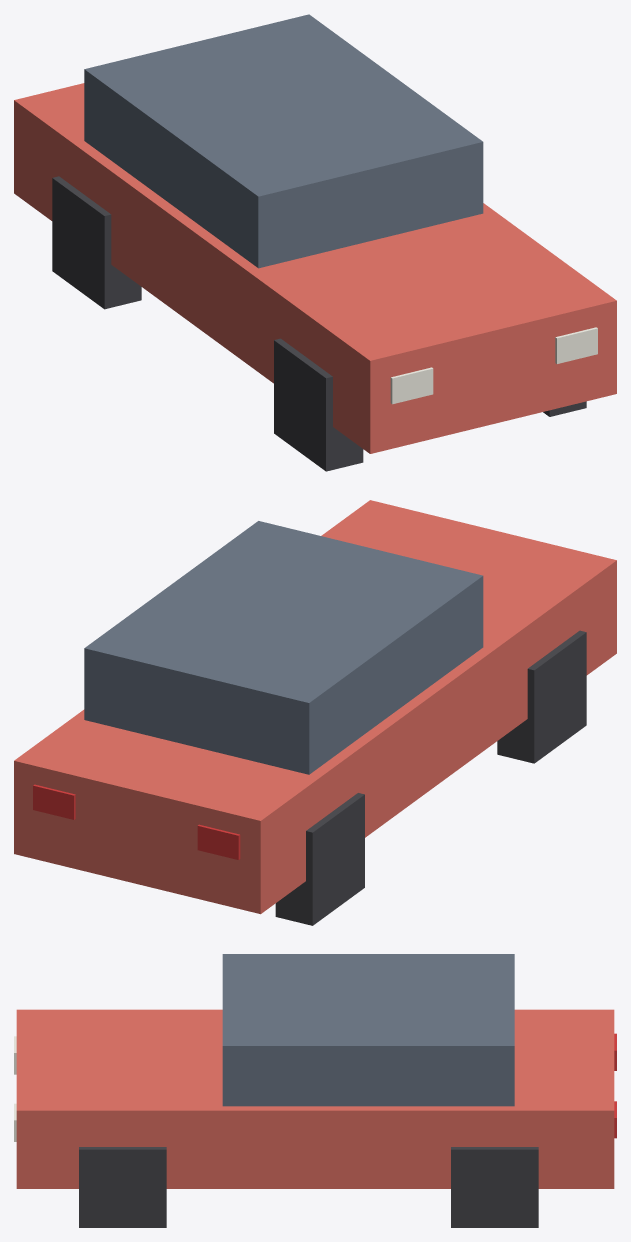
File: vehicle.glb
3 renders of one model, top to bottom at view 1: azimuth 30°, elevation 25°; view 2: azimuth 150°, elevation 25°; view 3: azimuth 270°, elevation 25°, orthographic. The views are drawn at different scales.
Bounding box in the file's own units: 1.9 × 1.45 × 4.54.
